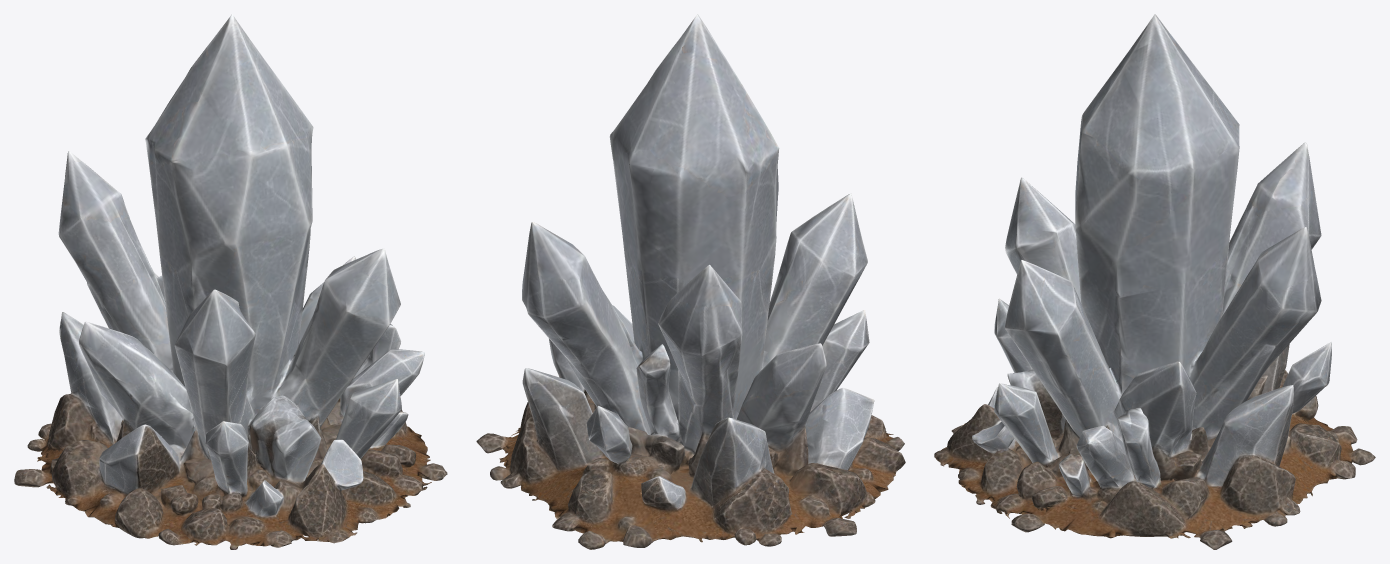
The model's file is crystal-node.glb.
The picture shows the model from 3 angles, left to right: view 1: azimuth 30°, elevation 25°; view 2: azimuth 150°, elevation 25°; view 3: azimuth 270°, elevation 25°; orthographic projection.
Size of the model in its own units: 1.65 by 1.9 by 1.69.
1 material, 1 textured.
